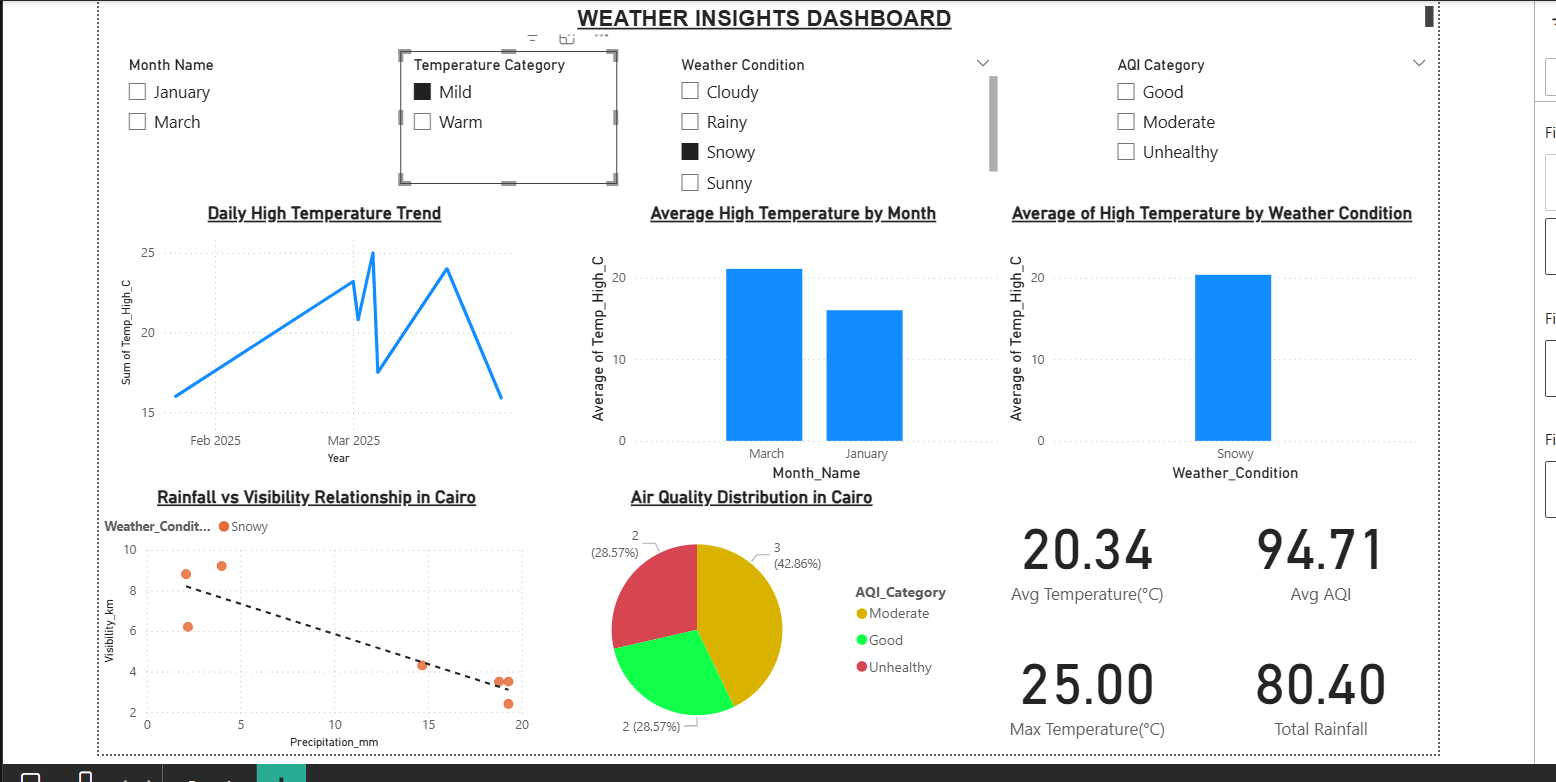

Layout of this report page (visuals, bound fields, positions):
{"tool":"powerbi","page":{"name":"Page 1","canvas":[1280,720],"ordinal":0},"visuals":[{"type":"lineChart","title":"Daily High Temperature Trend","fields":{"Category":["Weather_Data.Date.Variation.Date Hierarchy.Year","Weather_Data.Date.Variation.Date Hierarchy.Quarter","Weather_Data.Date.Variation.Date Hierarchy.Month","Weather_Data.Date.Variation.Date Hierarchy.Day"],"Y":["Sum(Weather_Data.Temp_High_C)"]},"box":[16,192,400,256],"z":0},{"type":"clusteredColumnChart","title":"Average High Temperature by Month","fields":{"Category":["Weather_Data.Month_Name"],"Y":["Avg(Weather_Data.Temp_High_C)"]},"box":[464,192,400,272],"z":1000},{"type":"clusteredColumnChart","title":"Average of High Temperature by Weather Condition","fields":{"Y":["Avg(Weather_Data.Temp_High_C)"],"Category":["Weather_Data.Weather_Condition"]},"box":[864,192,400,272],"z":2000},{"type":"pieChart","title":"Air Quality Distribution in Cairo","fields":{"Category":["Weather_Data.AQI_Category"],"Y":["CountNonNull(Weather_Data.Date)"]},"box":[416,464,416,256],"z":3000},{"type":"scatterChart","title":"Rainfall vs Visibility Relationship in Cairo","fields":{"X":["Weather_Data.Precipitation_mm"],"Y":["Weather_Data.Visibility_km"],"Series":["Weather_Data.Weather_Condition"]},"box":[0,464,416,256],"z":4000},{"type":"card","fields":{"Values":["Avg(Weather_Data.Temp_High_C)"]},"box":[832,464,224,128],"z":5000},{"type":"card","fields":{"Values":["Max(Weather_Data.Temp_High_C)"]},"box":[832,592,224,128],"z":6000},{"type":"card","fields":{"Values":["Avg(Weather_Data.Air_Quality_Index)"]},"box":[1056,464,224,128],"z":7000},{"type":"card","fields":{"Values":["Sum(Weather_Data.Precipitation_mm)"]},"box":[1056,592,224,128],"z":8000},{"type":"slicer","fields":{"Values":["Weather_Data.Month_Name"]},"box":[16,48,224,128],"z":9000},{"type":"slicer","fields":{"Values":["Weather_Data.Weather_Condition"]},"box":[544,48,320,144],"z":10000},{"type":"slicer","fields":{"Values":["Weather_Data.Temp_Category"]},"box":[288,48,208,128],"z":11000},{"type":"slicer","fields":{"Values":["Weather_Data.AQI_Category"]},"box":[960,48,320,144],"z":12000},{"type":"textbox","box":[0,0,1280,32],"z":13000}]}

Visuals, with their boxes on the page's 1280x720 design canvas (x1, y1, x2, y2). These are canvas units, not pixel positions in the 1556x782 screenshot, which may show the page scaled, cropped or inside an application window:
"Daily High Temperature Trend" lineChart: {"x1": 16, "y1": 192, "x2": 416, "y2": 448}
"Average High Temperature by Month" clusteredColumnChart: {"x1": 464, "y1": 192, "x2": 864, "y2": 464}
"Average of High Temperature by Weather Condition" clusteredColumnChart: {"x1": 864, "y1": 192, "x2": 1264, "y2": 464}
"Air Quality Distribution in Cairo" pieChart: {"x1": 416, "y1": 464, "x2": 832, "y2": 720}
"Rainfall vs Visibility Relationship in Cairo" scatterChart: {"x1": 0, "y1": 464, "x2": 416, "y2": 720}
card - Avg(Weather_Data.Temp_High_C): {"x1": 832, "y1": 464, "x2": 1056, "y2": 592}
card - Max(Weather_Data.Temp_High_C): {"x1": 832, "y1": 592, "x2": 1056, "y2": 720}
card - Avg(Weather_Data.Air_Quality_Index): {"x1": 1056, "y1": 464, "x2": 1280, "y2": 592}
card - Sum(Weather_Data.Precipitation_mm): {"x1": 1056, "y1": 592, "x2": 1280, "y2": 720}
slicer - Weather_Data.Month_Name: {"x1": 16, "y1": 48, "x2": 240, "y2": 176}
slicer - Weather_Data.Weather_Condition: {"x1": 544, "y1": 48, "x2": 864, "y2": 192}
slicer - Weather_Data.Temp_Category: {"x1": 288, "y1": 48, "x2": 496, "y2": 176}
slicer - Weather_Data.AQI_Category: {"x1": 960, "y1": 48, "x2": 1280, "y2": 192}
textbox: {"x1": 0, "y1": 0, "x2": 1280, "y2": 32}
